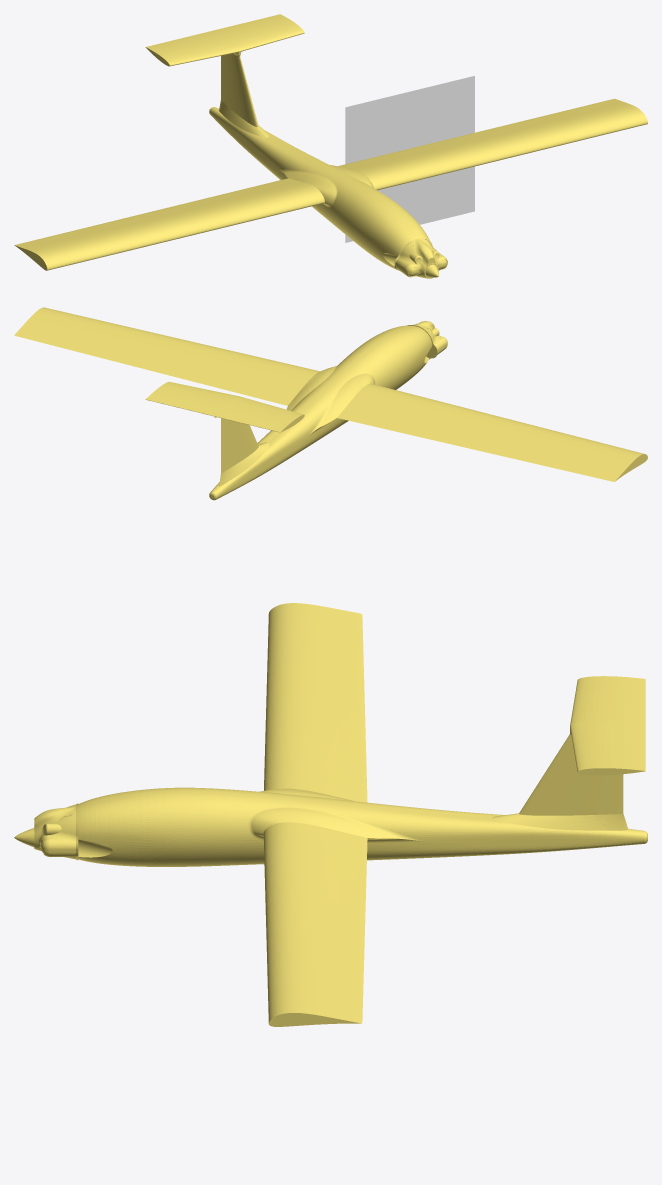
Rendered from CGT.glb.
3 renders of one model, top to bottom at view 1: azimuth 30°, elevation 25°; view 2: azimuth 150°, elevation 25°; view 3: azimuth 270°, elevation 25°, orthographic. The views are drawn at different scales.
Parts seen in each view (by area): view 1: CATIA, Plane; view 2: CATIA; view 3: CATIA.
Boxes of the visible parts, <box> form: CATIA: <box>14,14,647,278</box>; Plane: <box>345,76,474,242</box>; CATIA: <box>14,307,647,500</box>; CATIA: <box>14,603,647,1026</box>.
Size of the model in its own units: 4.63 by 1.56 by 3.03.
